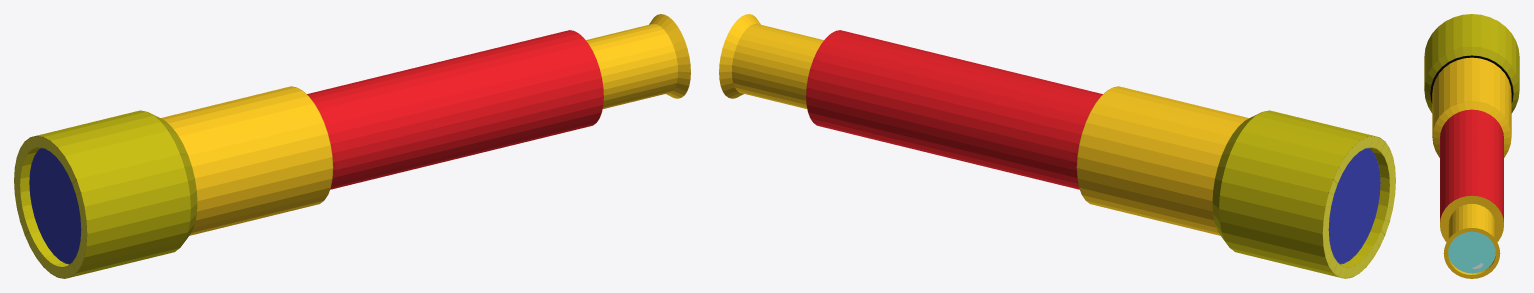
File: 望遠鏡.fbx
The picture shows the model from 3 angles, left to right: view 1: azimuth 30°, elevation 25°; view 2: azimuth 150°, elevation 25°; view 3: azimuth 270°, elevation 25°; orthographic projection. The views are drawn at different scales.
Parts seen in each view (by area): view 1: 柱体.001; view 2: 柱体.001; view 3: 柱体.001.
Part boxes in pixels (bbox=[...]): 柱体.001: bbox=[14, 14, 690, 278]; 柱体.001: bbox=[719, 14, 1395, 278]; 柱体.001: bbox=[1424, 14, 1519, 278].
Bounding box in the file's own units: 975 × 200 × 200.
